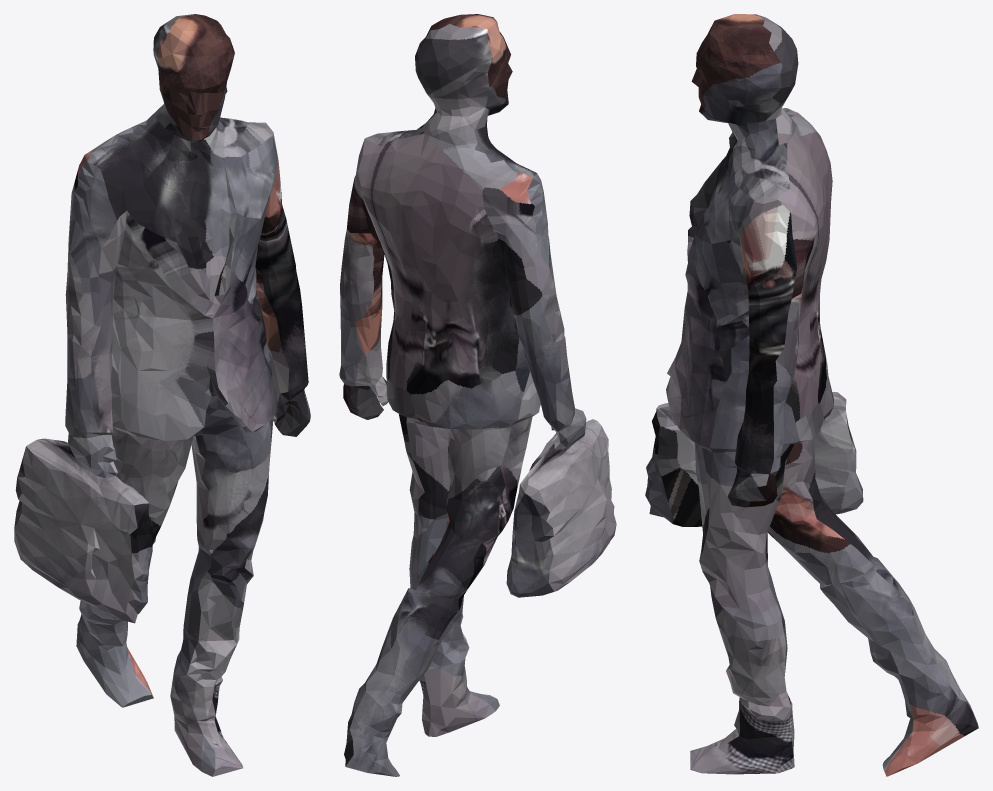
3 renders of one model, left to right at view 1: azimuth 30°, elevation 25°; view 2: azimuth 150°, elevation 25°; view 3: azimuth 270°, elevation 25°, orthographic. The views are drawn at different scales.
Parts seen in each view (by area): view 1: mn_3; view 2: mn_3; view 3: mn_3.
Part boxes in pixels (bbox=[...]): mn_3: bbox=[14, 14, 310, 776]; mn_3: bbox=[339, 14, 616, 776]; mn_3: bbox=[645, 14, 978, 776].
Bounding box in the file's own units: 0.6035 × 1.66 × 0.6755.
Materials: 1 (1 with a texture image).
